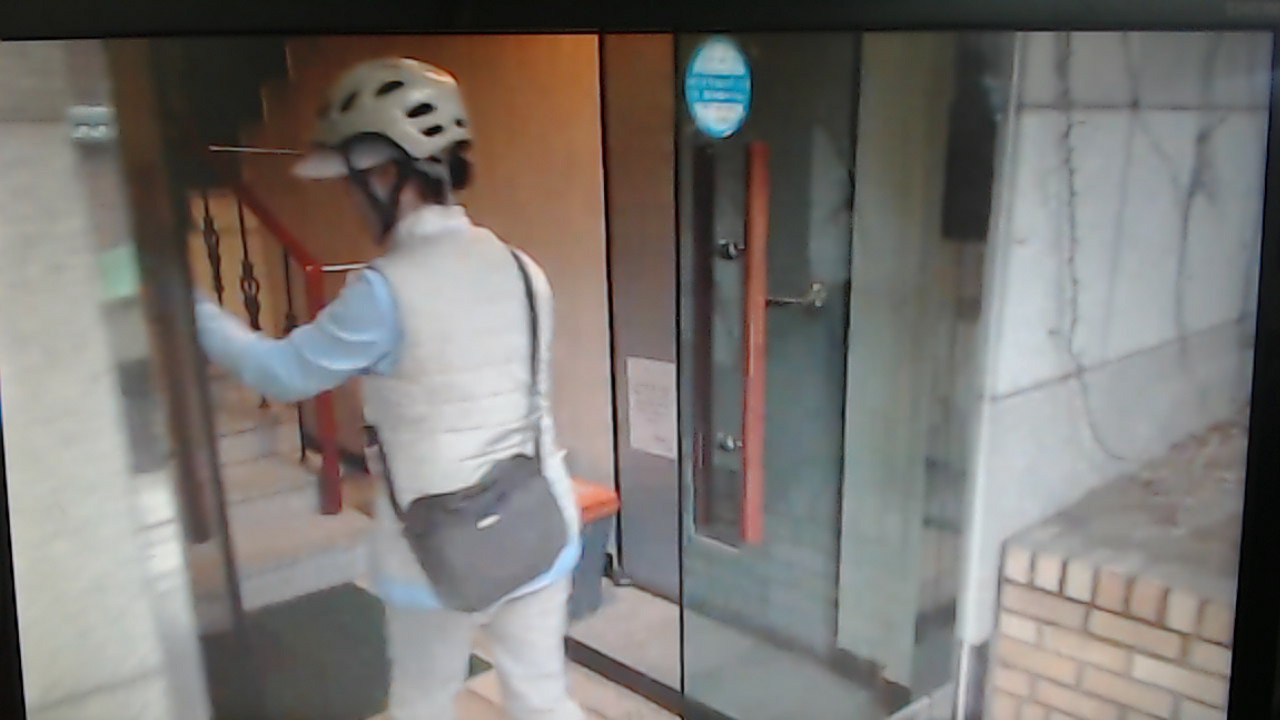Yakurut: (179, 51, 624, 720)
